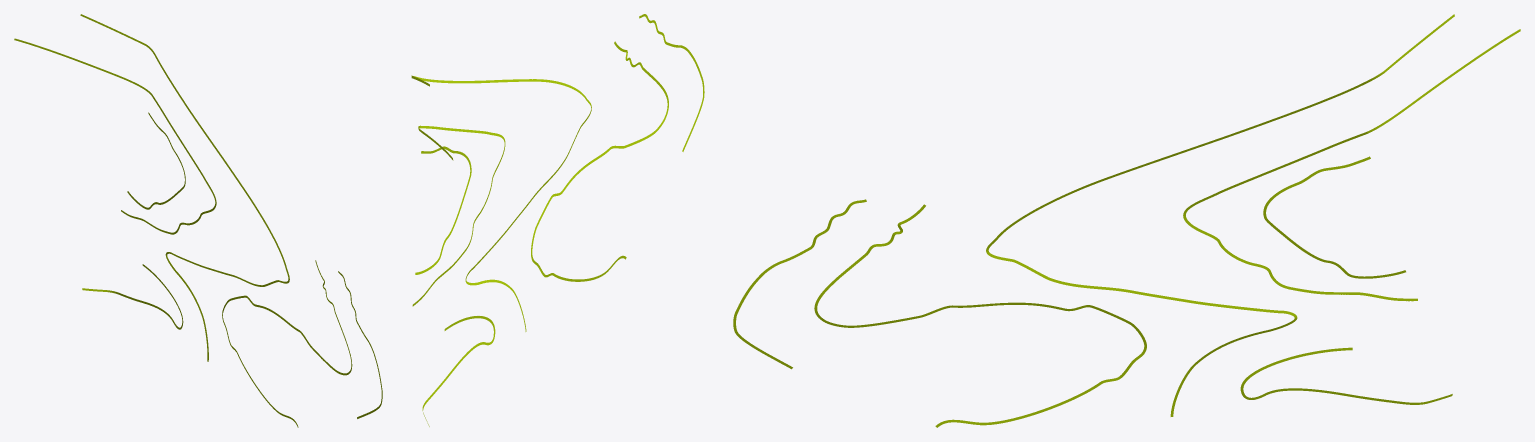
File: composition.glb
The picture shows the model from 3 angles, left to right: view 1: azimuth 30°, elevation 25°; view 2: azimuth 150°, elevation 25°; view 3: azimuth 270°, elevation 25°; orthographic projection. The views are drawn at different scales.
Parts seen in each view (by area): view 1: original curves.001; view 2: original curves.001; view 3: original curves.001.
Part boxes in pixels (bbox=[...]): original curves.001: bbox=[14, 14, 382, 427]; original curves.001: bbox=[411, 14, 704, 426]; original curves.001: bbox=[733, 14, 1520, 427].
Bounding box in the file's own units: 0.0252 × 0.0781 × 0.1416.
